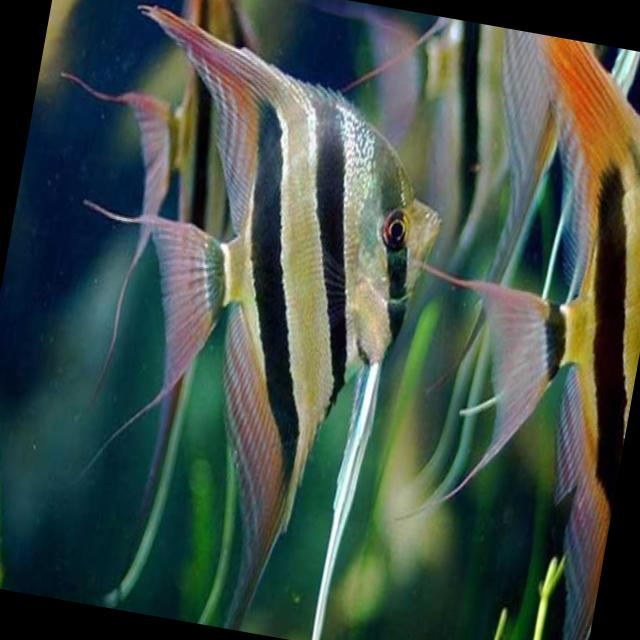AngelFish: (40, 4, 469, 634), (432, 34, 640, 640), (100, 0, 271, 245)
